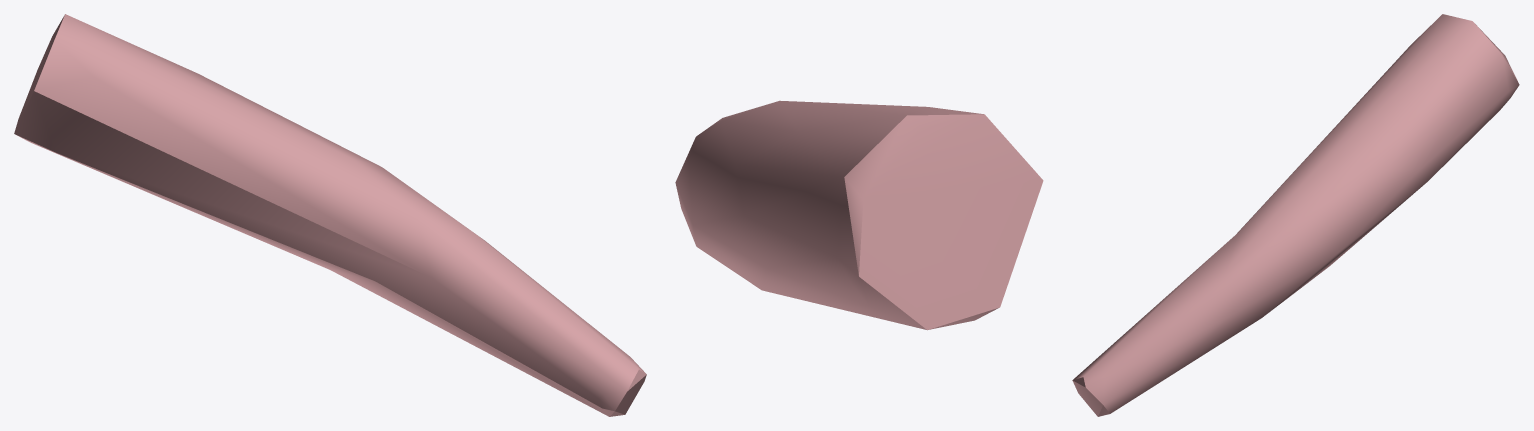
File: fma68231_fj6493.glb
3 views of the same model, side by side, from view 1: azimuth 30°, elevation 25°; view 2: azimuth 150°, elevation 25°; view 3: azimuth 270°, elevation 25° (orthographic). The views are drawn at different scales.
Parts seen in each view (by area): view 1: FMA68231_FJ6493; view 2: FMA68231_FJ6493; view 3: FMA68231_FJ6493.
Boxes of the visible parts, box(x1,y1,x2,y2) form: FMA68231_FJ6493: box(14, 14, 646, 416); FMA68231_FJ6493: box(675, 100, 1043, 330); FMA68231_FJ6493: box(1072, 14, 1519, 416).
Bounding box in the file's own units: 0.0157 × 0.0115 × 0.0178.
